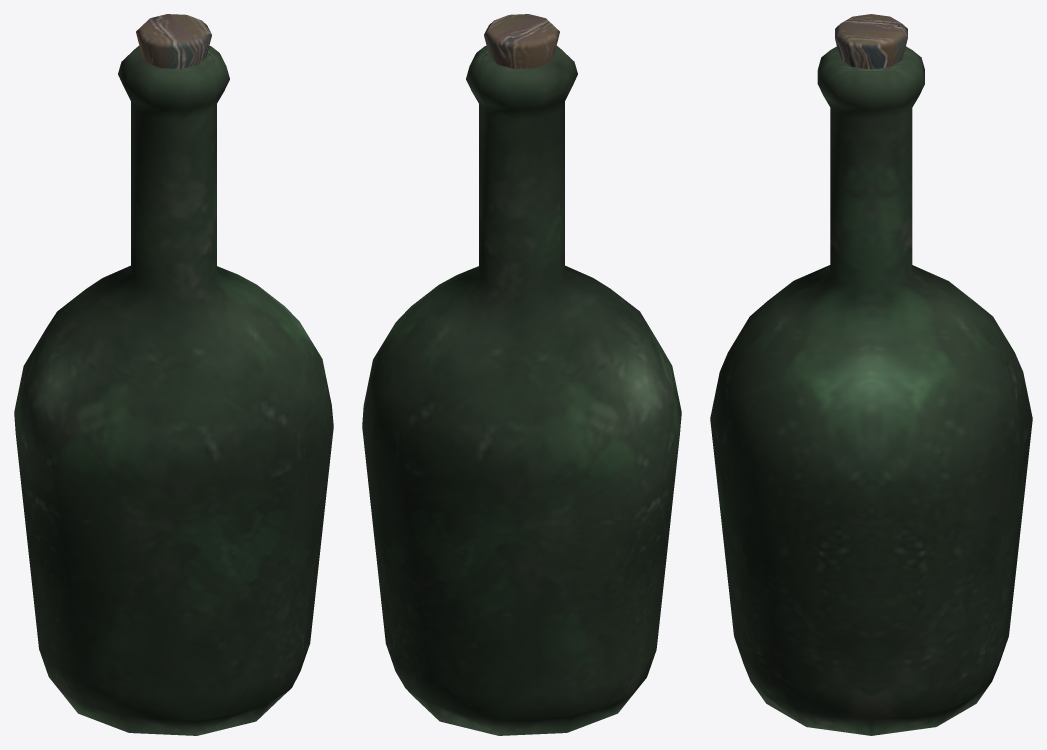
Rendered from village_bottle_06.fbx.
3 renders of one model, left to right at view 1: azimuth 30°, elevation 25°; view 2: azimuth 150°, elevation 25°; view 3: azimuth 270°, elevation 25°, orthographic.
Parts seen in each view (by area): view 1: village_bottle_06; view 2: village_bottle_06; view 3: village_bottle_06.
Boxes of the visible parts, x1,y1,x2,y2 form: village_bottle_06: (14, 14, 333, 735); village_bottle_06: (362, 14, 681, 735); village_bottle_06: (710, 14, 1032, 735).
Size of the model in its own units: 15.31 by 34.85 by 15.4.
